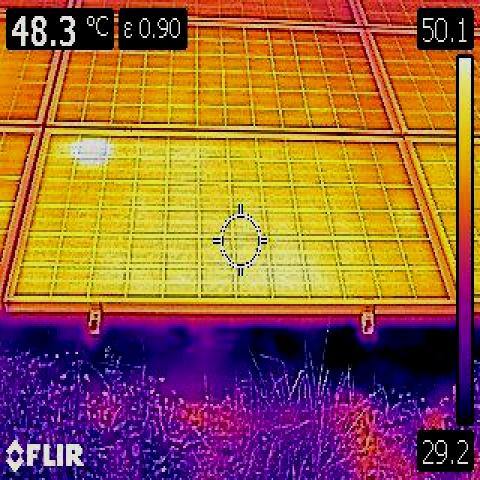fault: (81, 138, 108, 162)
